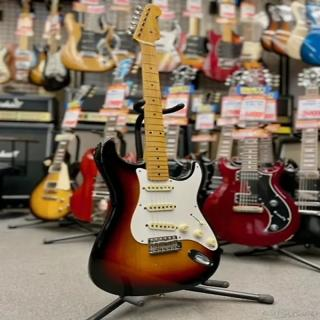Fender Stratocaster: (88, 2, 224, 304)
SSS: (144, 181, 184, 241)
